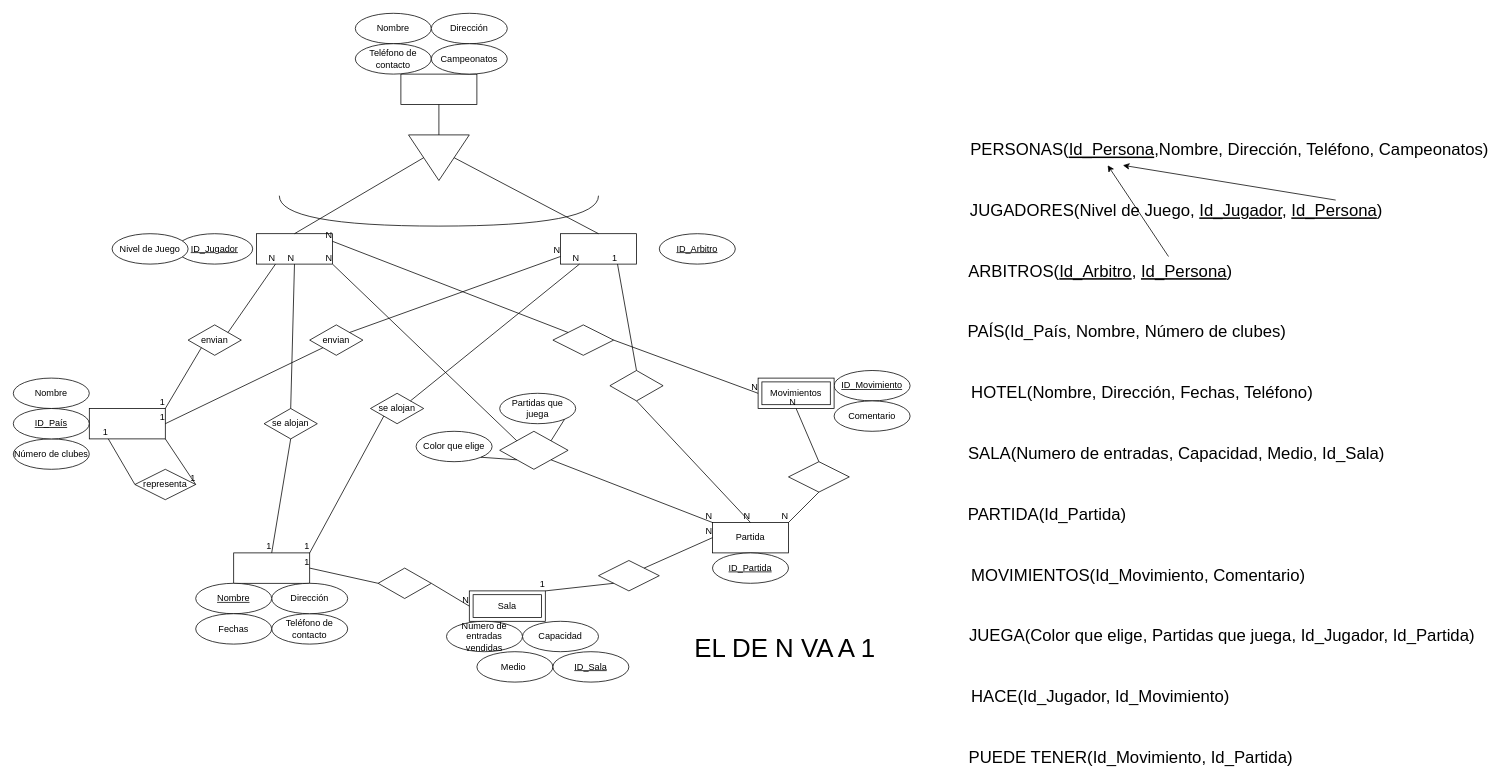
The diagram is 1509 pixels wide and 781 high, and some of its shapes have lost their labels. The shapes that lost their labels are listed below. From the top down, each one's centre as x and y in pixels, then its label:
At [438,88]: "Personas".
At [294,248]: "Jugadores".
At [598,248]: "Arbitros".
At [583,339]: "hace".
At [636,385]: "arbitra".
At [127,423]: "País".
At [533,450]: "juega".
At [818,476]: "puede tener".
At [271,567]: "Hotel".
At [404,582]: "tiene".
At [628,575]: "puede alojar".
